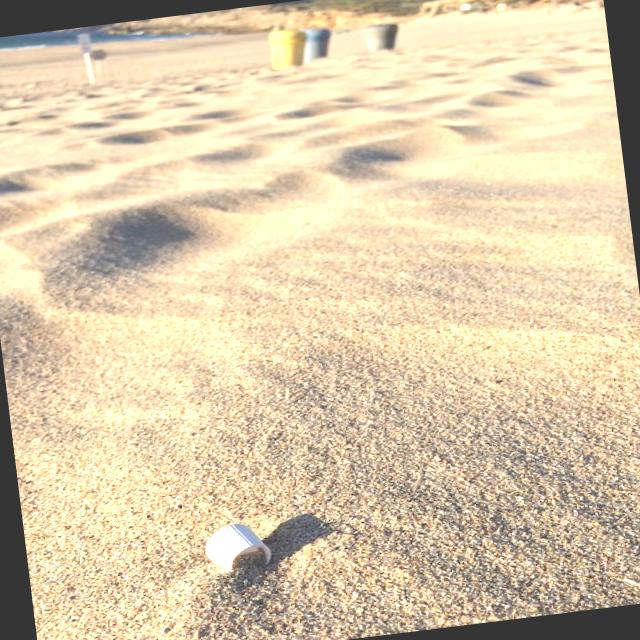Trash: (200, 509, 318, 582)
